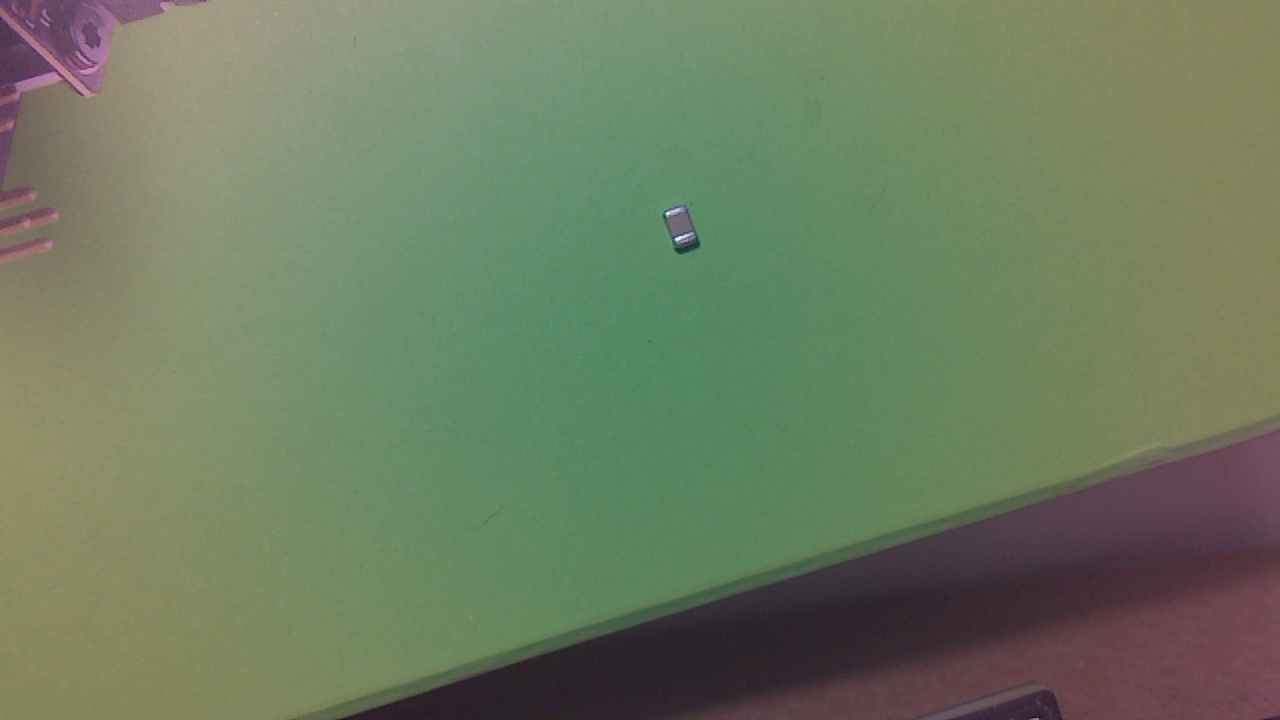Condensator: (668, 210, 712, 258)
